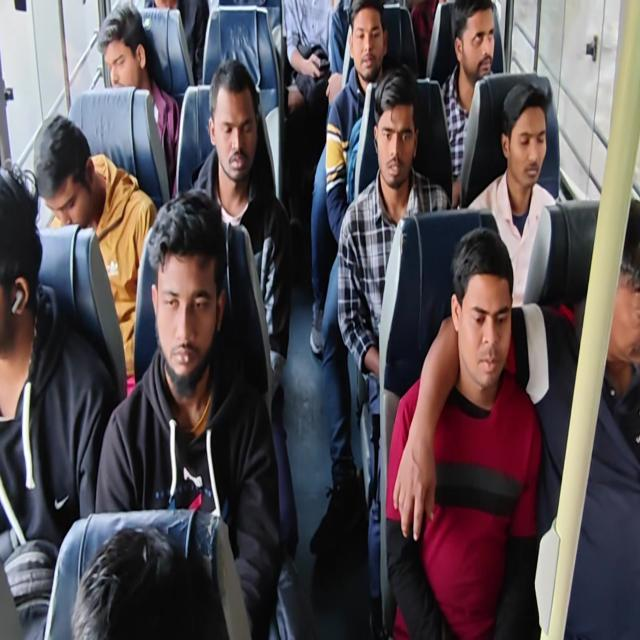person: (149, 200, 221, 389), (449, 240, 516, 398), (31, 119, 107, 243), (0, 164, 44, 342), (605, 208, 640, 408), (498, 84, 558, 200), (209, 64, 263, 182), (374, 87, 422, 204), (95, 15, 150, 100), (456, 0, 506, 90), (346, 5, 386, 79)
